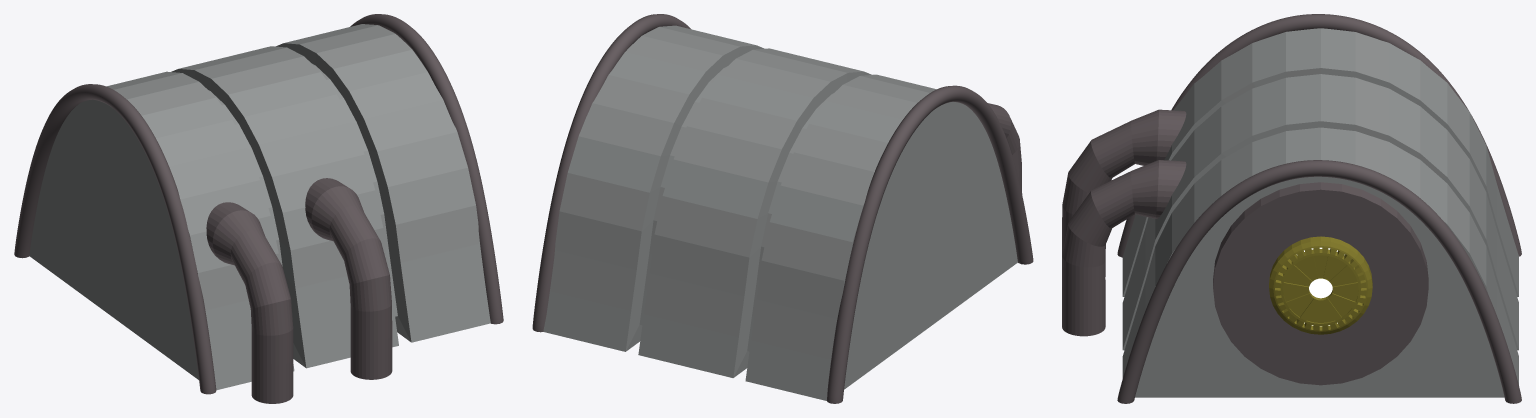
The model's file is FurnaceLevel2.fbx.
The picture shows the model from 3 angles, left to right: view 1: azimuth 30°, elevation 25°; view 2: azimuth 150°, elevation 25°; view 3: azimuth 270°, elevation 25°; orthographic projection. The views are drawn at different scales.
Parts seen in each view (by area): view 1: Cylinder, Cylinder.004, Cylinder.003, NurbsPath.001, NurbsPath; view 2: Cylinder, NurbsPath.001, NurbsPath, Cylinder.004; view 3: Cylinder, Cylinder.001, NurbsPath, Cylinder.003, Cylinder.002, Cylinder.004, NurbsPath.001.
Boxes of the visible parts, bbox=[...] form: Cylinder: bbox=[29, 24, 490, 390]; Cylinder.004: bbox=[206, 202, 293, 403]; Cylinder.003: bbox=[305, 178, 392, 379]; NurbsPath.001: bbox=[14, 84, 216, 394]; NurbsPath: bbox=[350, 14, 503, 324]; Cylinder: bbox=[543, 25, 1017, 400]; NurbsPath.001: bbox=[827, 85, 1033, 403]; NurbsPath: bbox=[532, 14, 690, 332]; Cylinder.004: bbox=[987, 103, 1022, 194]; Cylinder: bbox=[1122, 28, 1518, 397]; Cylinder.001: bbox=[1213, 182, 1428, 385]; NurbsPath: bbox=[1117, 160, 1521, 403]; Cylinder.003: bbox=[1062, 160, 1186, 336]; Cylinder.002: bbox=[1269, 236, 1372, 334]; Cylinder.004: bbox=[1062, 109, 1186, 276]; NurbsPath.001: bbox=[1117, 14, 1521, 257].
Bounding box in the file's own units: 1.64 × 1.14 × 1.98.
